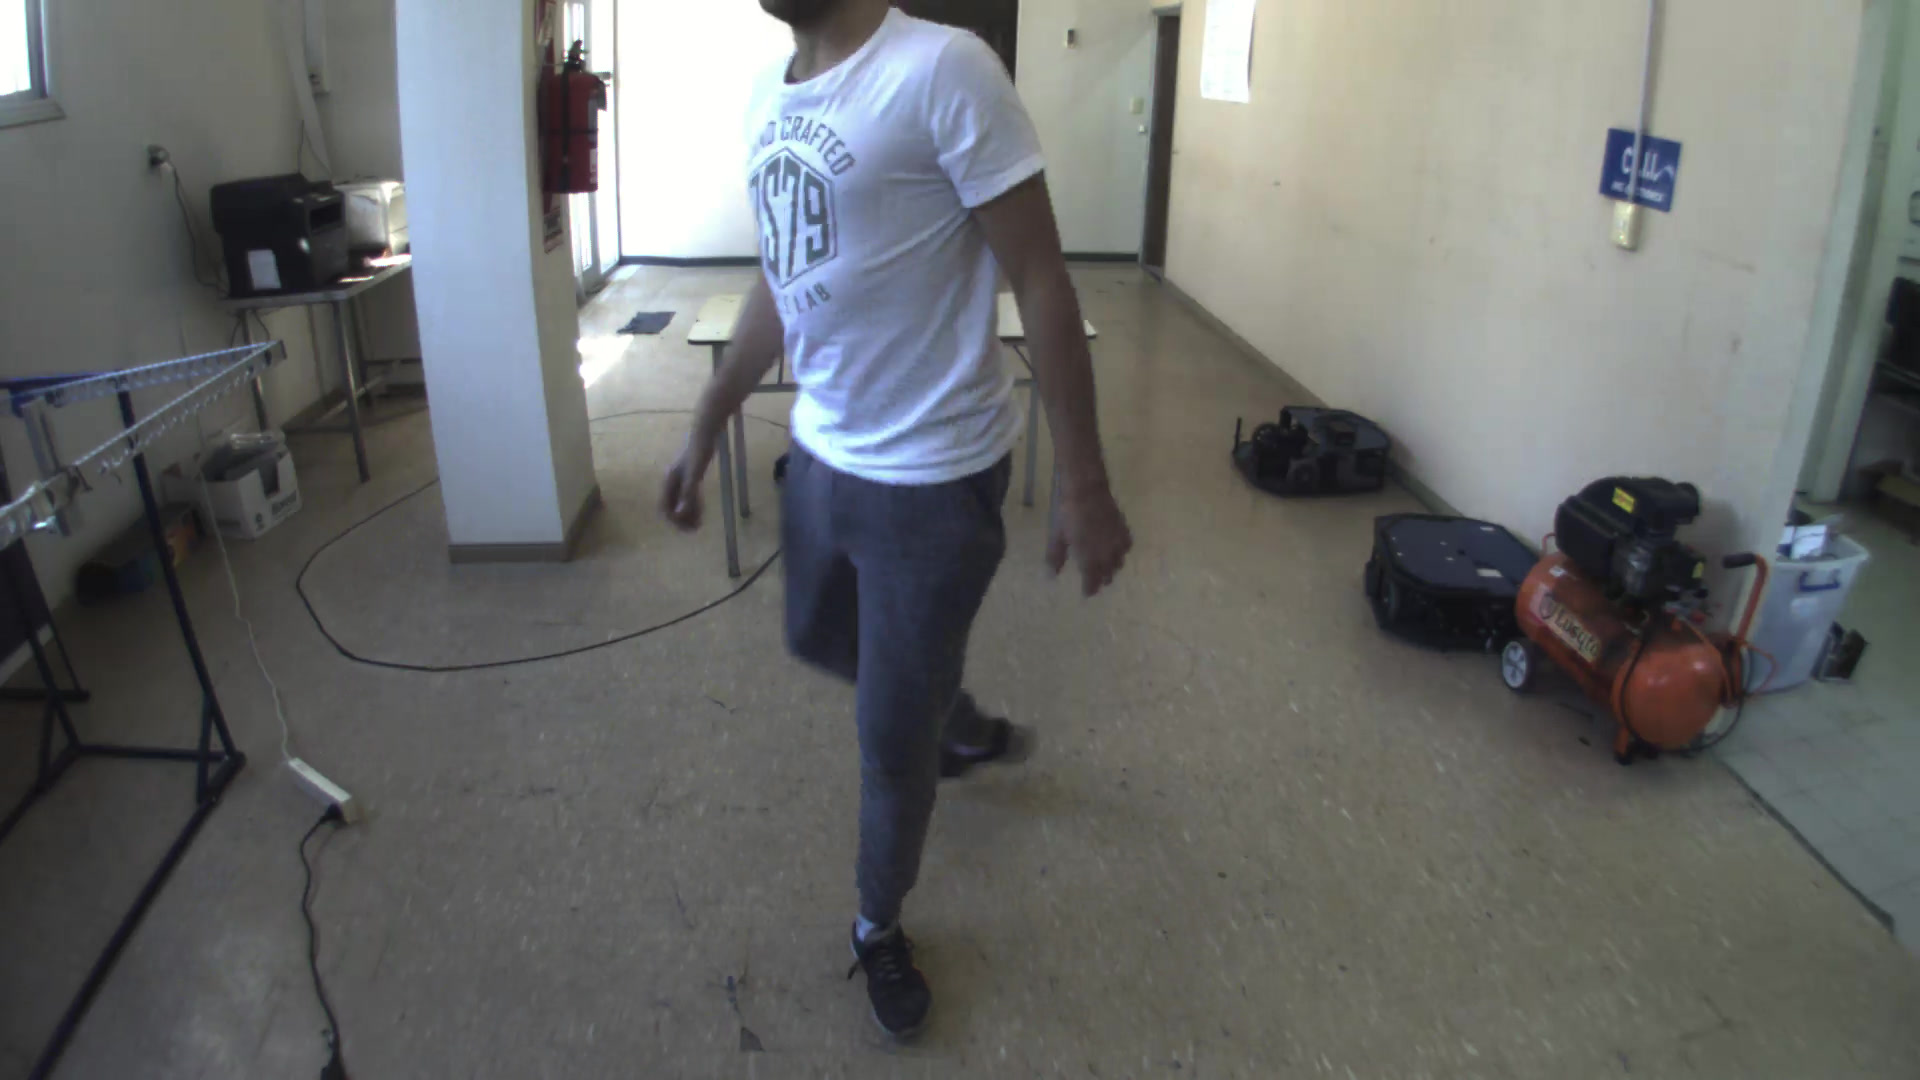hand: (1048, 444, 1145, 597), (646, 440, 727, 534)
